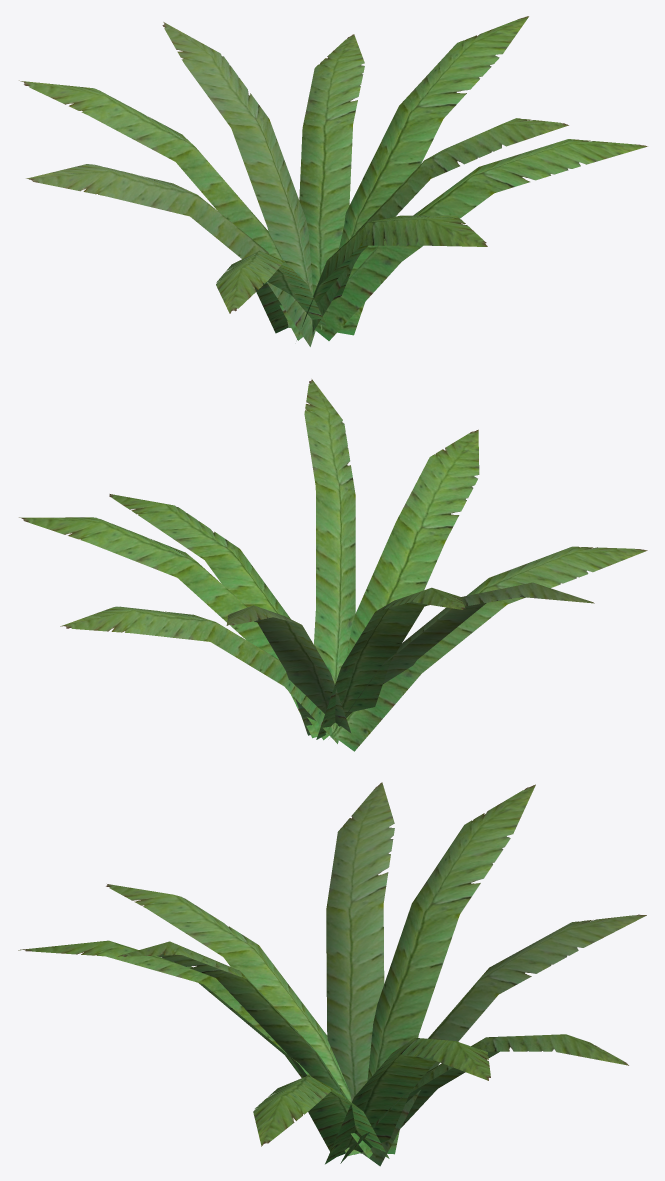
The model's file is GrassPlant_01_01.obj.
3 renders of one model, top to bottom at view 1: azimuth 30°, elevation 25°; view 2: azimuth 150°, elevation 25°; view 3: azimuth 270°, elevation 25°, orthographic. The views are drawn at different scales.
Parts seen in each view (by area): view 1: polySurface59; view 2: polySurface59; view 3: polySurface59.
Part boxes in pixels (bbox=[...]): polySurface59: bbox=[19, 16, 647, 346]; polySurface59: bbox=[19, 379, 647, 751]; polySurface59: bbox=[18, 782, 646, 1166].
Bounding box in the file's own units: 19.75 × 8.61 × 17.79.
Materials: 1 (1 with a texture image).
